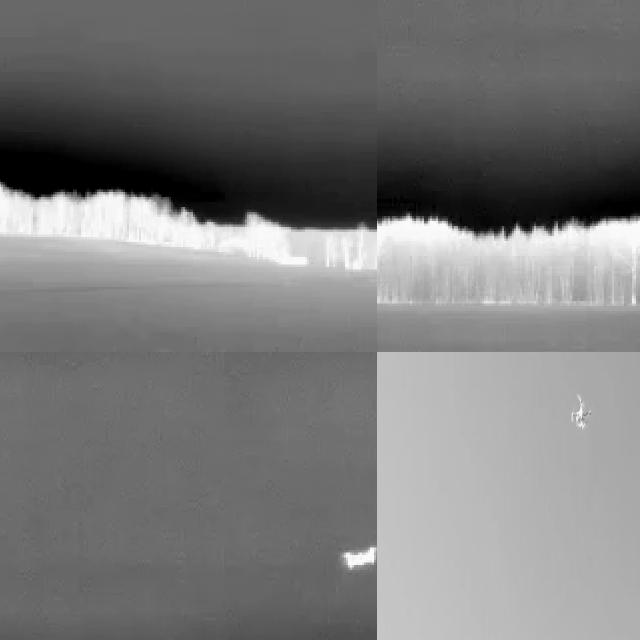1: (331, 542, 377, 577)
drone: (571, 391, 592, 433)
